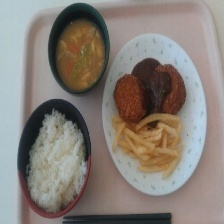rice: (24, 107, 88, 214)
